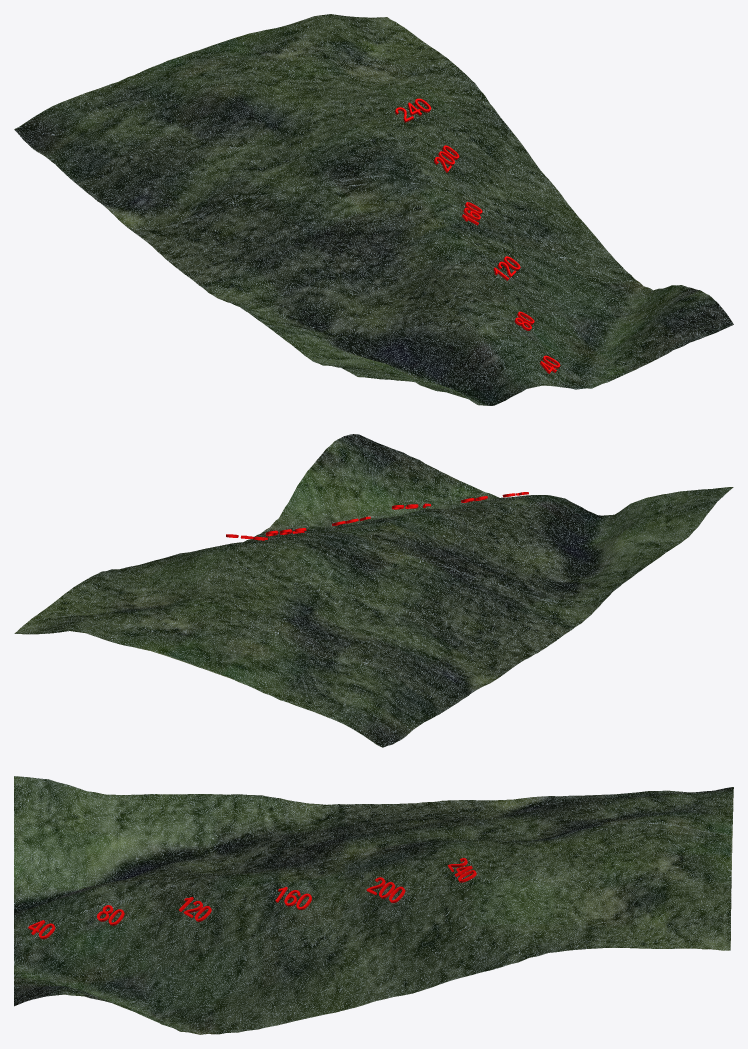
Rendered from SaoJoseAusentes1.dae.
3 renders of one model, top to bottom at view 1: azimuth 30°, elevation 25°; view 2: azimuth 150°, elevation 25°; view 3: azimuth 270°, elevation 25°, orthographic. The views are drawn at different scales.
Visible parts, largest first — view 1: SketchUp; view 2: SketchUp; view 3: SketchUp.
Part boxes in pixels (box(x1,y1,x2,y2)): SketchUp: box(14, 14, 733, 405); SketchUp: box(14, 434, 733, 747); SketchUp: box(14, 776, 733, 1034).
Size of the model in its own units: 36423 by 58407 by 10814.
Materials: 3 (1 with a texture image).
